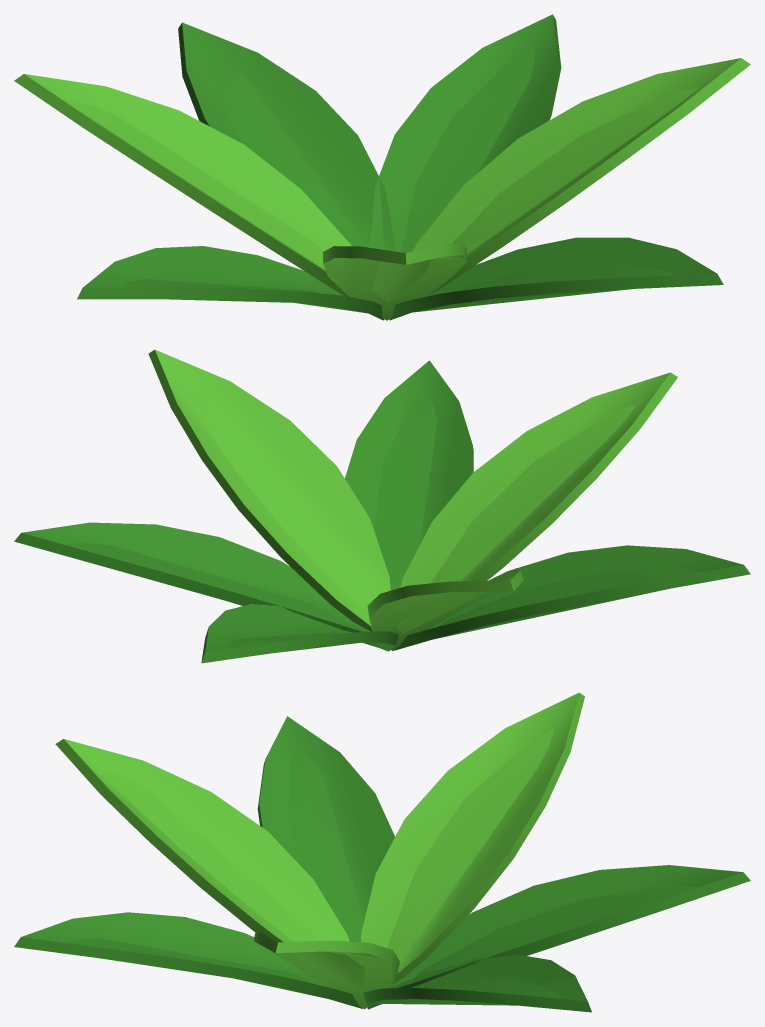
The model's file is Fern.fbx.
3 views of the same model, one above another, from view 1: azimuth 30°, elevation 25°; view 2: azimuth 150°, elevation 25°; view 3: azimuth 270°, elevation 25° (orthographic). The views are drawn at different scales.
Parts seen in each view (by area): view 1: Fern; view 2: Fern; view 3: Fern.
Part boxes in pixels (x1,y1,x2,y2): Fern: [14, 14, 750, 320]; Fern: [14, 349, 750, 663]; Fern: [14, 692, 750, 1012].
Bounding box in the file's own units: 2.95 × 0.9323 × 3.05.
1 material, 1 textured.
